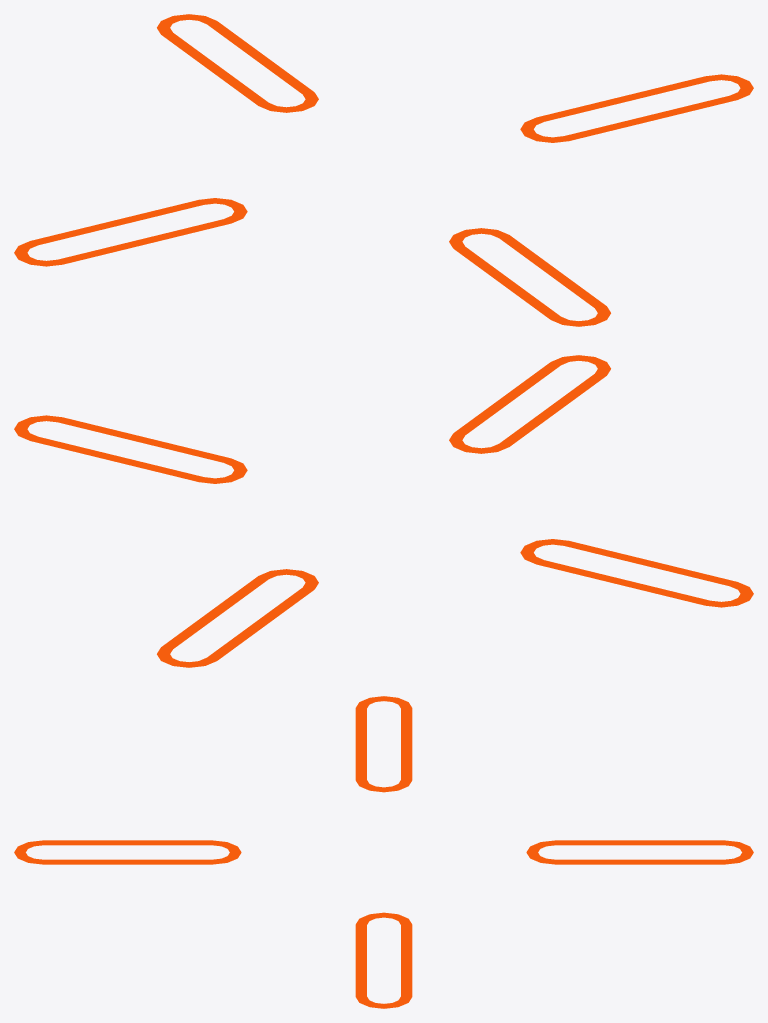
File: Cannon Target.glb
3 views of the same model, one above another, from view 1: azimuth 30°, elevation 25°; view 2: azimuth 150°, elevation 25°; view 3: azimuth 270°, elevation 25° (orthographic). The views are drawn at different scales.
Parts seen in each view (by area): view 1: Origin Cannon Target; view 2: Origin Cannon Target; view 3: Origin Cannon Target.
Boxes of the visible parts, x1,y1,x2,y2 form: Origin Cannon Target: (14,14,753,326); Origin Cannon Target: (14,355,753,667); Origin Cannon Target: (14,696,753,1008).
Size of the model in its own units: 6.5 by 0 by 6.5.
